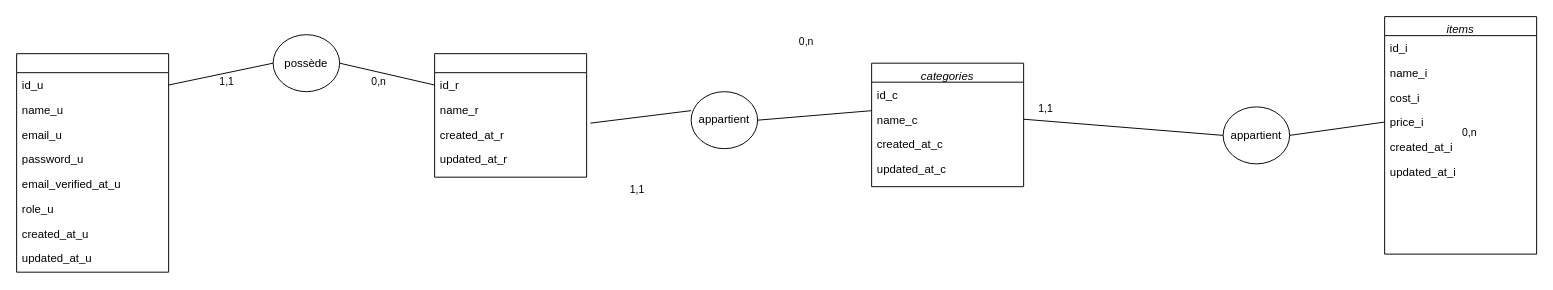
The diagram is 1553 pixels wide and 290 high, and some of its shapes have lost their labels. Each missing label, with the box of its shape:
restaurants: (434, 53, 587, 177)
users: (16, 53, 169, 272)
